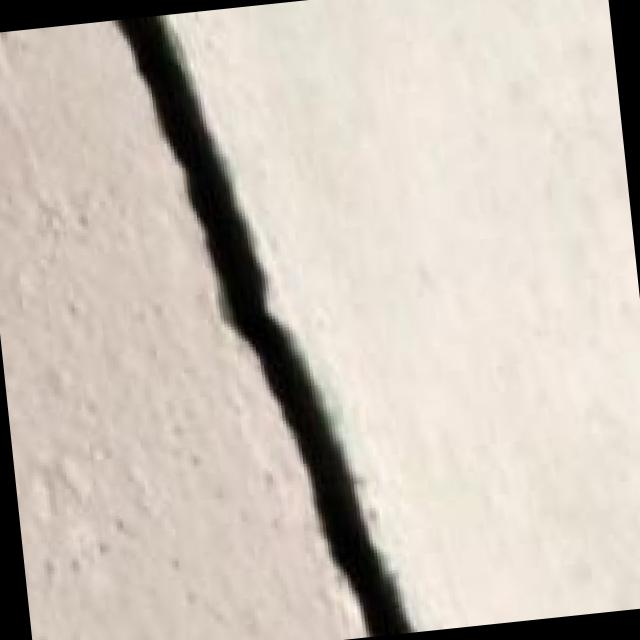crack: (82, 0, 432, 640)
